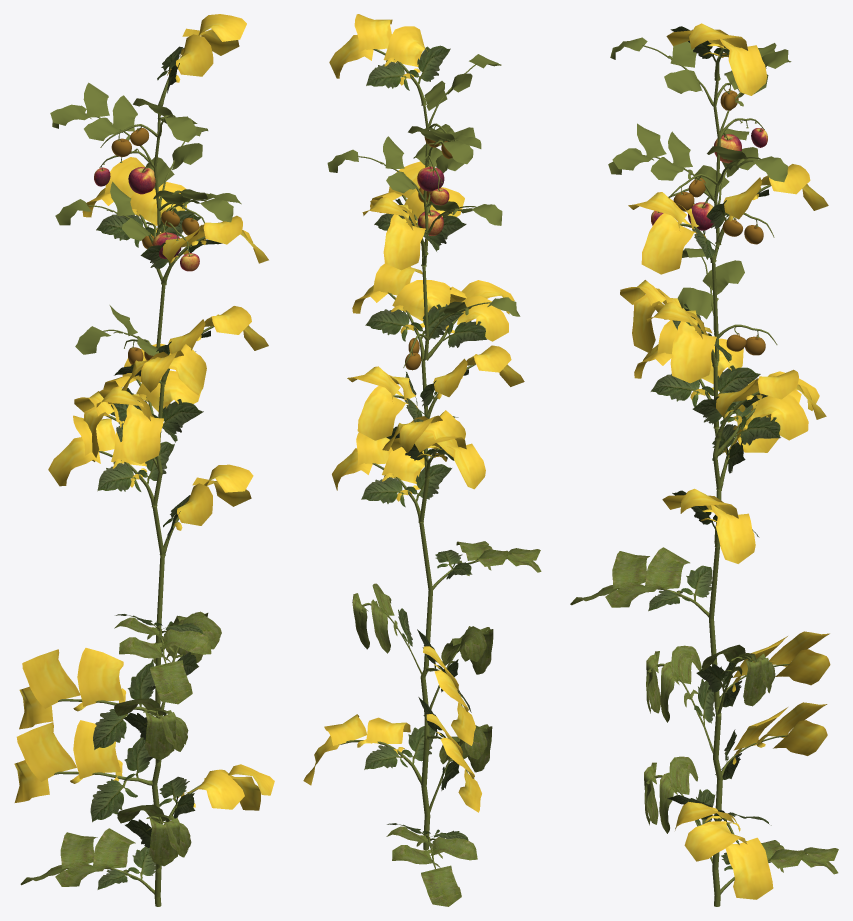
Rendered from apple_tree.dae.
The picture shows the model from 3 angles, left to right: view 1: azimuth 30°, elevation 25°; view 2: azimuth 150°, elevation 25°; view 3: azimuth 270°, elevation 25°; orthographic projection. The views are drawn at different scales.
Visible parts, largest first — view 1: Blossom2, Branch1, Leaf1, Blossom1, Apple12; view 2: Blossom2, Branch1, Leaf1, Blossom1, Apple12; view 3: Blossom2, Branch1, Leaf1, Blossom1.
Part boxes in pixels (x1,y1,x2,y2): Blossom2: [14, 14, 274, 810]; Branch1: [20, 53, 241, 906]; Leaf1: [90, 46, 222, 889]; Blossom1: [114, 611, 221, 866]; Apple12: [128, 167, 155, 194]; Blossom2: [303, 14, 524, 812]; Branch1: [327, 49, 541, 906]; Leaf1: [361, 45, 487, 841]; Blossom1: [352, 583, 493, 772]; Apple12: [417, 166, 444, 191]; Blossom2: [620, 23, 830, 899]; Branch1: [570, 37, 838, 906]; Leaf1: [648, 26, 780, 879]; Blossom1: [644, 644, 775, 833].
Bounding box in the file's own units: 0.7346 × 0.7744 × 2.88.
7 materials, 6 textured.
